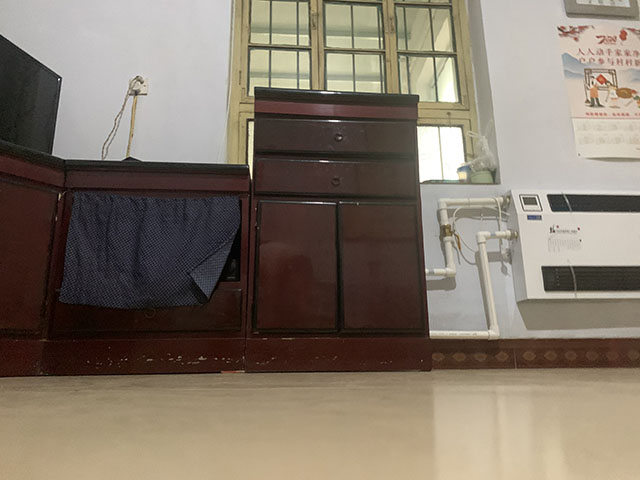cabinet: (1, 85, 434, 378)
